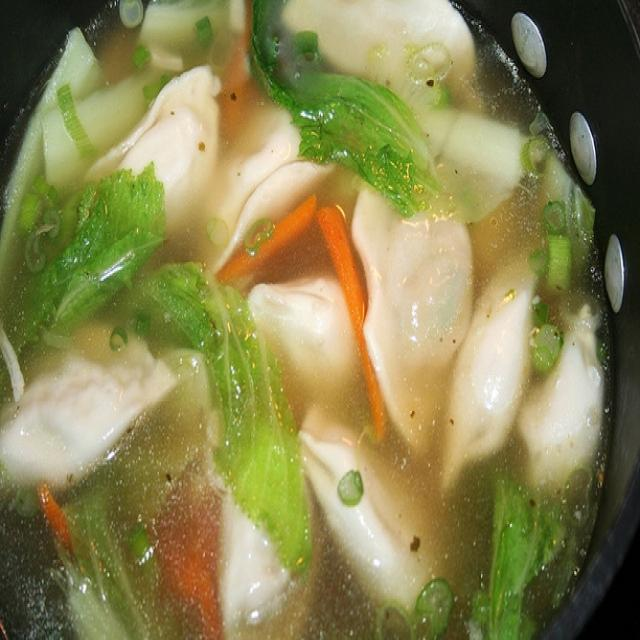汤锅炖物: (20, 21, 595, 610)
